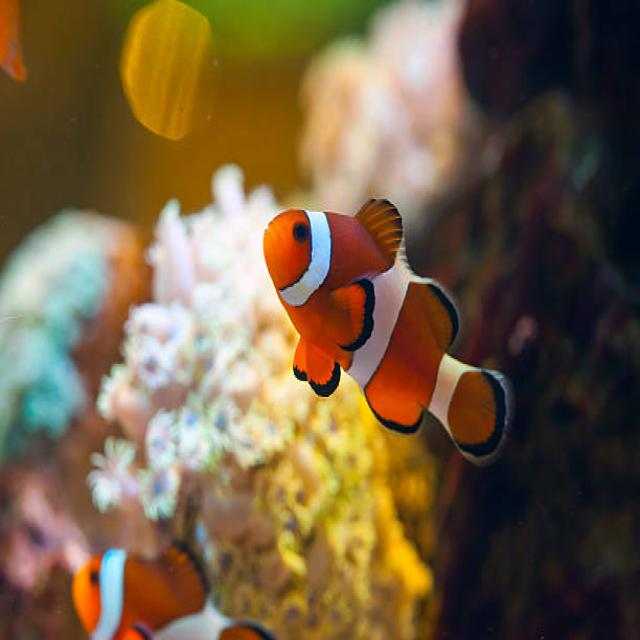ClownFish: (262, 190, 508, 469), (67, 532, 277, 640)
